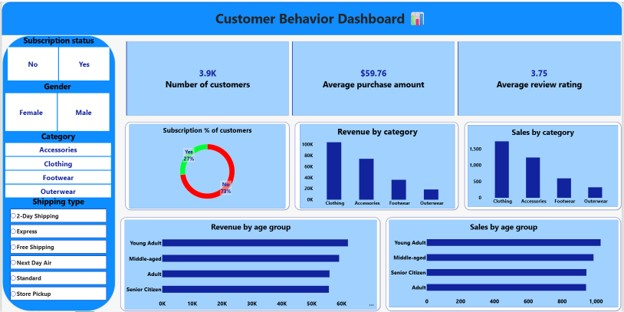

Layout of this report page (visuals, bound fields, positions):
{"tool":"powerbi","page":{"name":"Page 1","canvas":[6000,3000],"ordinal":0},"visuals":[{"type":"cardVisual","fields":{"Data":["shop customer shopping behaviour dataset.Number of customers","shop customer shopping behaviour dataset.Average purchase amount","shop customer shopping behaviour dataset.Average review rating"]},"box":[1193.7,370.6,4807.4,741.3],"z":0},{"type":"shape","box":[0,0,6001.1,321.6],"z":1000},{"type":"textbox","box":[0,70.9,6001.1,370.6],"z":2000},{"type":"shape","box":[1188.2,1155.5,1602.5,866.6],"z":3000},{"type":"donutChart","title":"Subscription % of customers","fields":{"Category":["shop customer shopping behaviour dataset.subscription_status"],"Y":["Count(shop customer shopping behaviour dataset.customer_id)"]},"box":[1231.8,1182.8,1509.8,817.6],"z":4000},{"type":"shape","box":[4469.5,1155.5,1531.6,866.6],"z":5000},{"type":"shape","box":[2828.9,1155.5,1597,866.6],"z":6000},{"type":"clusteredColumnChart","title":"Revenue by category","fields":{"Y":["Sum(shop customer shopping behaviour dataset.purchase_amount)"],"Category":["shop customer shopping behaviour dataset.category"]},"box":[2883.4,1182.8,1498.9,817.6],"z":7000},{"type":"clusteredColumnChart","title":"Sales by category","fields":{"Category":["shop customer shopping behaviour dataset.category"],"Y":["Count(shop customer shopping behaviour dataset.customer_id)"]},"box":[4507.6,1193.7,1455.3,790.3],"z":8000},{"type":"shape","box":[0,321.6,1101,2676.2],"z":9000},{"type":"advancedSlicerVisual","title":"Subscription status","fields":{"Values":["shop customer shopping behaviour dataset.subscription_status"]},"box":[54.5,321.6,986.6,441.5],"z":10000},{"type":"advancedSlicerVisual","title":"Gender","fields":{"Values":["shop customer shopping behaviour dataset.gender"]},"box":[32.7,763.1,1008.4,485.1],"z":11000},{"type":"advancedSlicerVisual","title":"Category","fields":{"Values":["shop customer shopping behaviour dataset.category"]},"box":[32.7,1248.2,1024.7,648.6],"z":12000},{"type":"listSlicer","title":"Shipping type","fields":{"Values":["shop customer shopping behaviour dataset.shipping_type"]},"box":[49.1,1853.2,992,1101],"z":13000},{"type":"shape","box":[1139.2,2076.7,2529.1,921.2],"z":14000},{"type":"clusteredBarChart","title":"Revenue by age group","fields":{"Y":["Sum(shop customer shopping behaviour dataset.purchase_amount)"],"Category":["shop customer shopping behaviour dataset.age_group"]},"box":[1188.2,2109.4,2441.9,866.6],"z":15000},{"type":"shape","box":[3711.9,2076.7,2289.3,921.2],"z":16000},{"type":"clusteredBarChart","title":"Sales by age group","fields":{"Category":["shop customer shopping behaviour dataset.age_group"],"Y":["CountNonNull(shop customer shopping behaviour dataset.customer_id)"]},"box":[3750,2109.4,2218.4,844.8],"z":17000}]}

Visuals, with their boxes in screenshot pixels (x1, y1, x2, y2), scaled from the page's 6000x3000 canvas onto the 624x312 screenshot:
cardVisual - shop customer shopping behaviour dataset.Number of customers x shop customer shopping behaviour dataset.Average purchase amount: box(124, 39, 623, 116)
shape: box(0, 0, 623, 33)
textbox: box(0, 7, 623, 46)
shape: box(124, 120, 290, 210)
"Subscription % of customers" donutChart: box(128, 123, 285, 208)
shape: box(465, 120, 623, 210)
shape: box(294, 120, 460, 210)
"Revenue by category" clusteredColumnChart: box(300, 123, 456, 208)
"Sales by category" clusteredColumnChart: box(469, 124, 620, 206)
shape: box(0, 33, 115, 311)
"Subscription status" advancedSlicerVisual: box(6, 33, 108, 79)
"Gender" advancedSlicerVisual: box(3, 79, 108, 130)
"Category" advancedSlicerVisual: box(3, 130, 110, 197)
"Shipping type" listSlicer: box(5, 193, 108, 307)
shape: box(118, 216, 382, 311)
"Revenue by age group" clusteredBarChart: box(124, 219, 378, 310)
shape: box(386, 216, 623, 311)
"Sales by age group" clusteredBarChart: box(390, 219, 621, 307)
